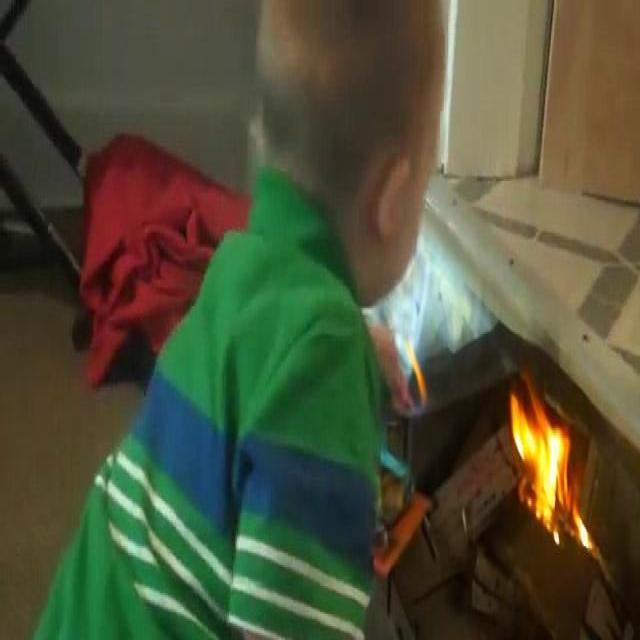smoke: (501, 371, 604, 558)
